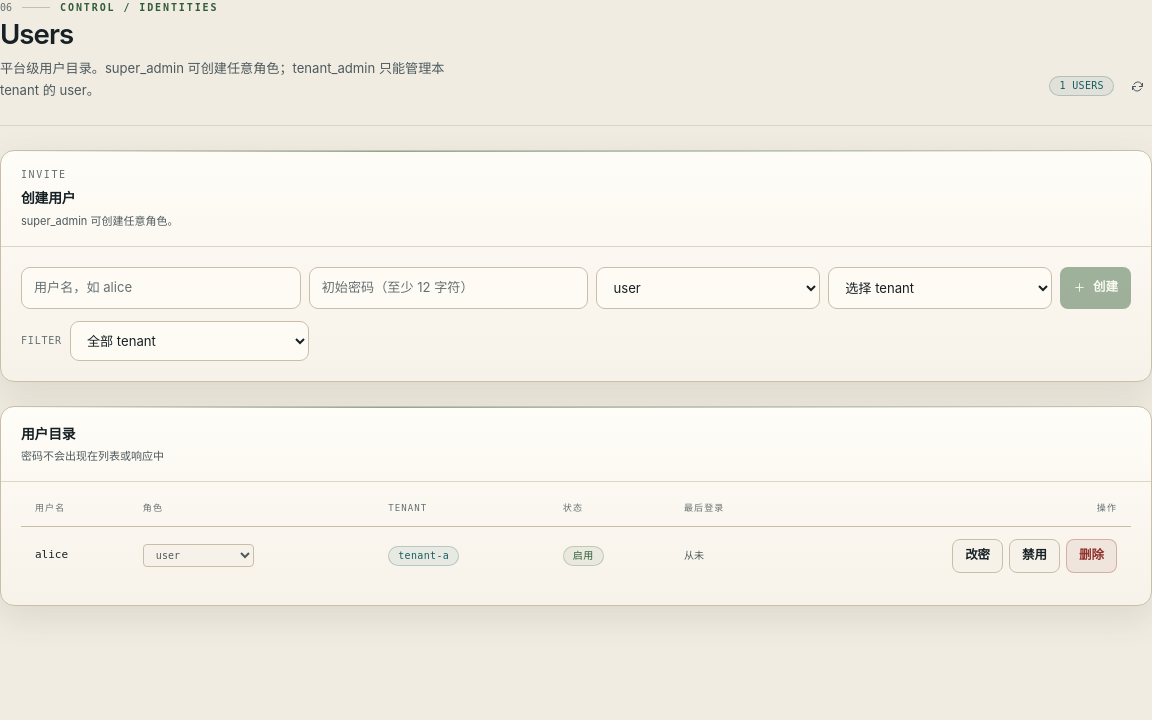
Test: Users page password reset dialog › opens an in-page dialog with a password input instead of a native prompt
The image size is (1152, 720).
Click the button "改密" at (978, 556), box [952,538,1003,572]
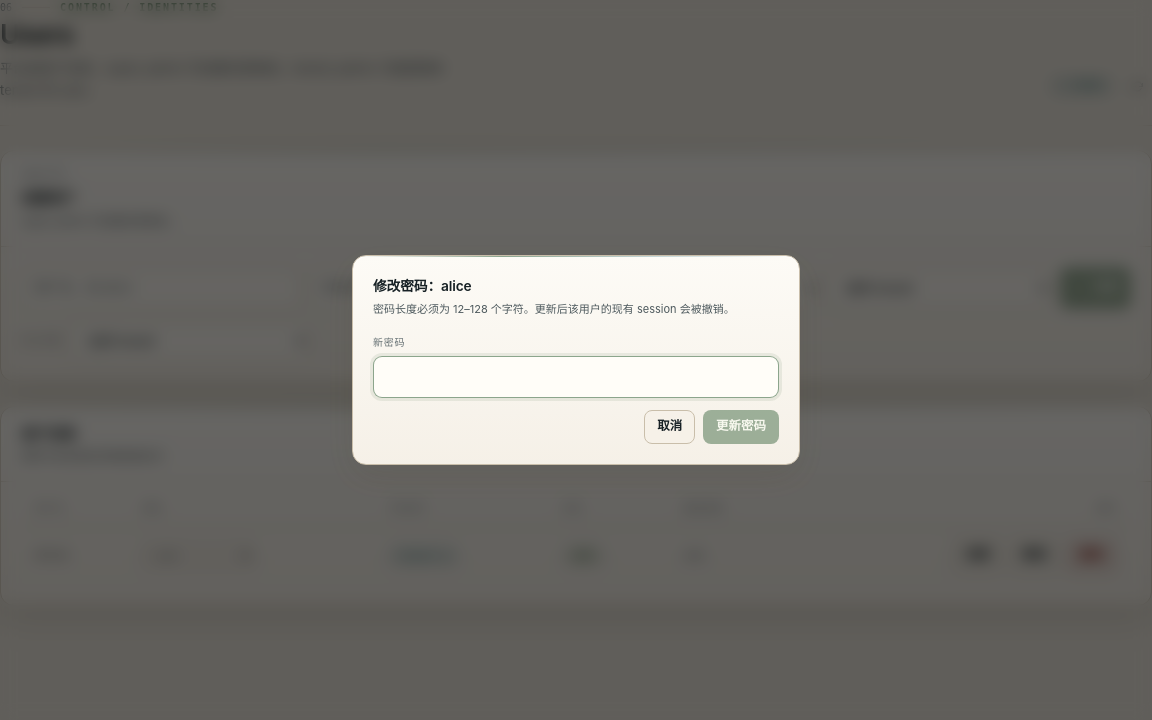
Check: the dialog "修改密码：alice" is shown, box [352,255,800,465]
Check: the password field labelled "新密码" is shown, box [373,356,779,398]
